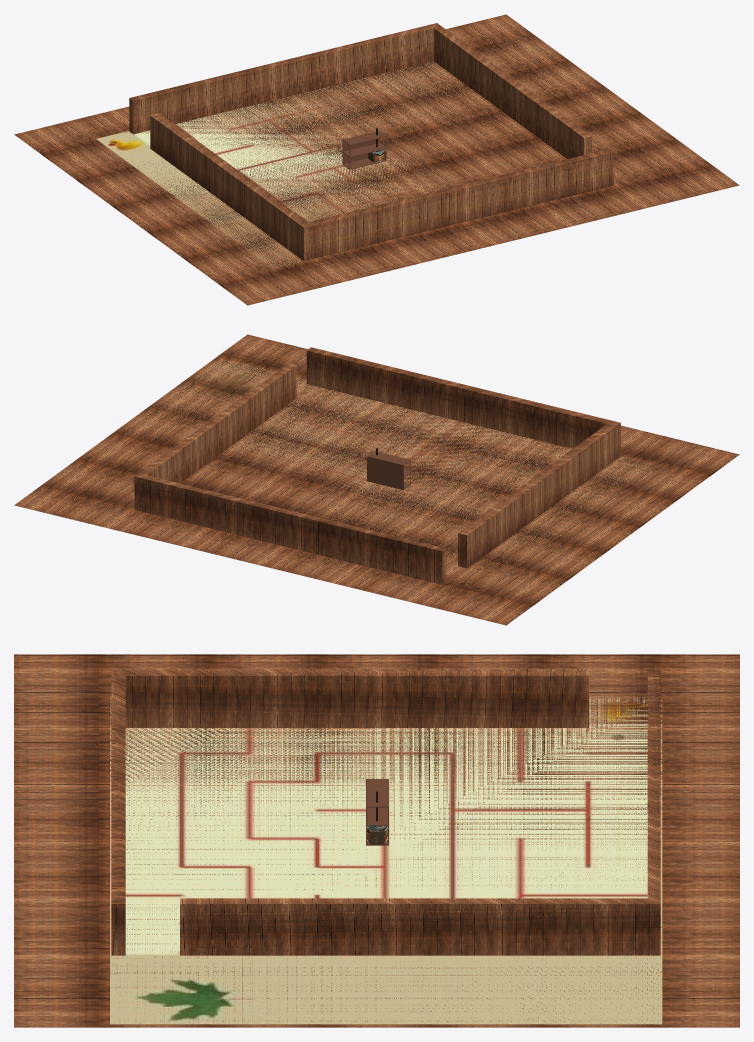
Rendered from kolobok stuf1.fbx.
3 views of the same model, one above another, from view 1: azimuth 30°, elevation 25°; view 2: azimuth 150°, elevation 25°; view 3: azimuth 270°, elevation 25° (orthographic). The views are drawn at different scales.
Visible parts, largest first — view 1: Plane_1, Cube_1, Plane, shelves; view 2: Plane_1, Cube_1, Plane, shelves; view 3: Plane, Plane_1, Cube_1, shelves.
Boxes of the visible parts, box(x1,y1,x2,y2) form: Plane_1: box(14, 14, 739, 305); Cube_1: box(129, 23, 613, 260); Plane: box(96, 35, 606, 268); shelves: box(342, 131, 386, 169); Plane_1: box(14, 334, 739, 625); Cube_1: box(134, 347, 620, 584); Plane: box(141, 358, 650, 591); shelves: box(367, 451, 410, 489); Plane: box(110, 697, 662, 1024); Plane_1: box(14, 654, 739, 1027); Cube_1: box(111, 669, 660, 955); shelves: box(366, 779, 388, 845).
Size of the model in its own units: 8140 by 528 by 6688.
15 materials, 9 textured.
